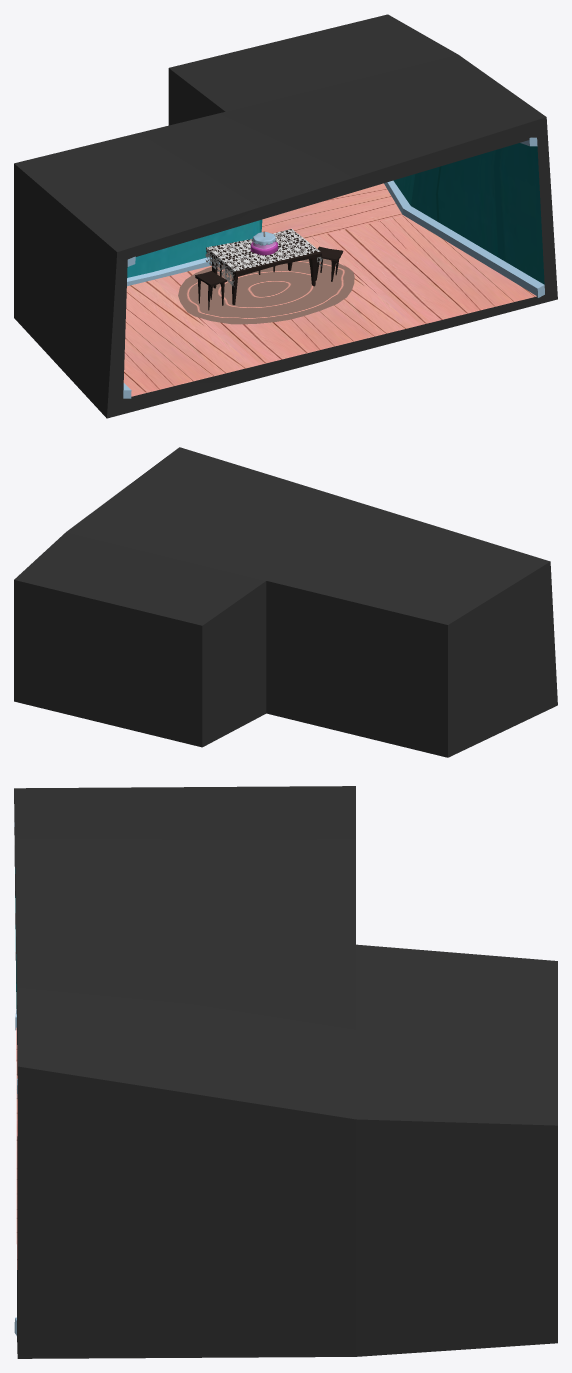
The model's file is scene_Birthday_.fbx.
3 renders of one model, top to bottom at view 1: azimuth 30°, elevation 25°; view 2: azimuth 150°, elevation 25°; view 3: azimuth 270°, elevation 25°, orthographic. The views are drawn at different scales.
Parts seen in each view (by area): view 1: sm_room, sm_carpet, sm_table, sm_cloth, sm_cake, sm_chair1; view 2: sm_room; view 3: sm_room.
Part boxes in pixels (bbox=[...]): sm_room: bbox=[14, 14, 557, 418]; sm_carpet: bbox=[178, 258, 354, 324]; sm_table: bbox=[206, 229, 322, 304]; sm_cloth: bbox=[205, 228, 322, 286]; sm_cake: bbox=[250, 231, 278, 255]; sm_chair1: bbox=[195, 271, 227, 310]; sm_room: bbox=[14, 447, 557, 757]; sm_room: bbox=[14, 786, 557, 1358].
Size of the model in its own units: 19.26 by 7.71 by 12.78.
Materials: 9 (5 with a texture image).
